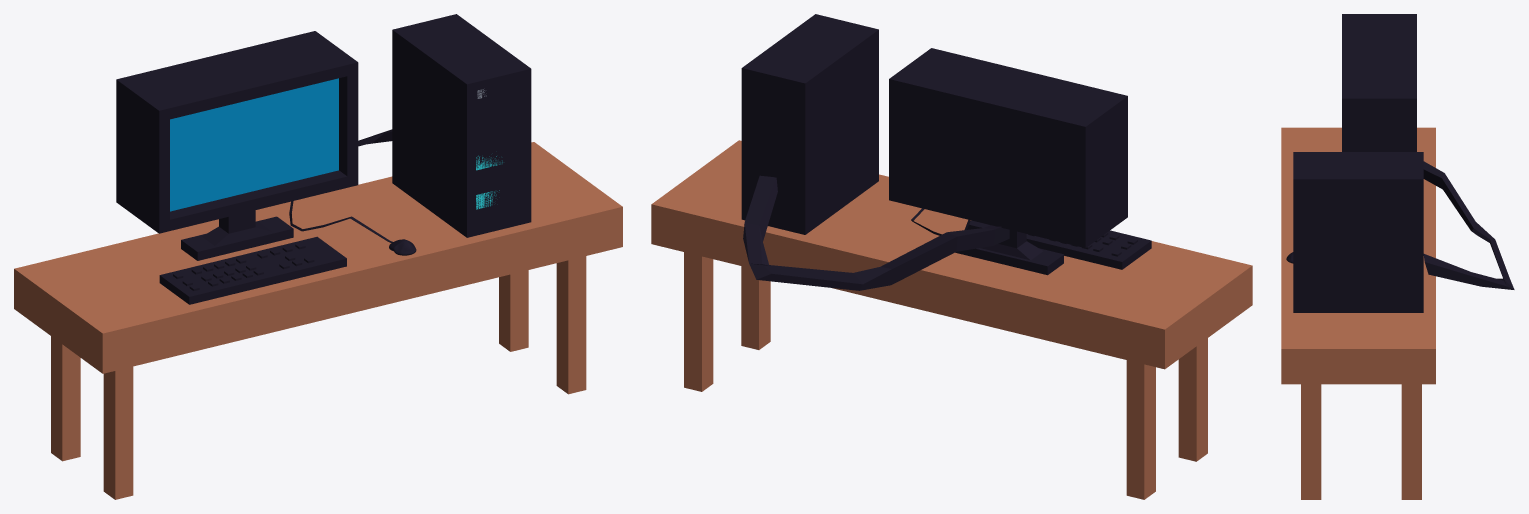
File: computer.gltf
3 views of the same model, side by side, from view 1: azimuth 30°, elevation 25°; view 2: azimuth 150°, elevation 25°; view 3: azimuth 270°, elevation 25° (orthographic). The views are drawn at different scales.
Parts seen in each view (by area): view 1: Cube, mouse; view 2: Cube; view 3: Cube.
Boxes of the visible parts, x1,y1,x2,y2 form: Cube: (14,14,622,499); mouse: (289,201,416,255); Cube: (651,14,1252,499); Cube: (1281,14,1514,499).
Size of the model in its own units: 6.77 by 4.48 by 3.02.
1 material, 1 textured.
